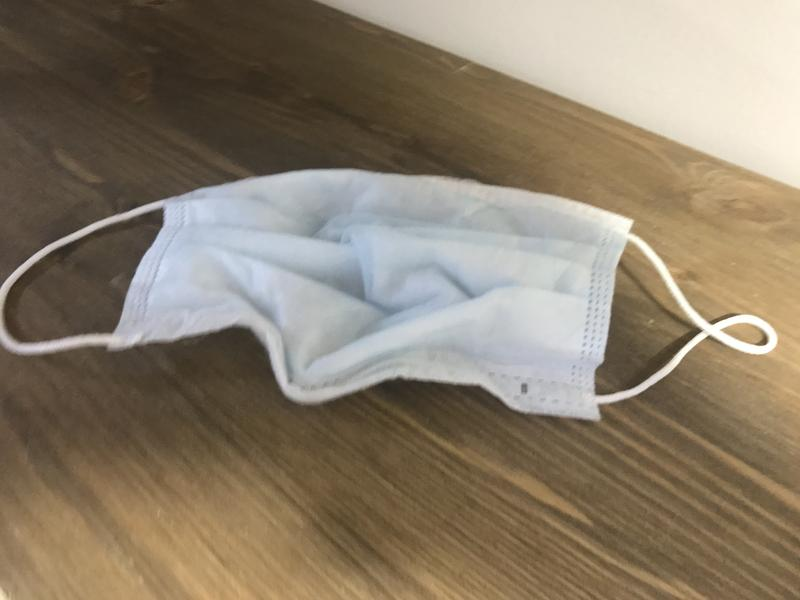medical_mask: (1, 168, 777, 421)
